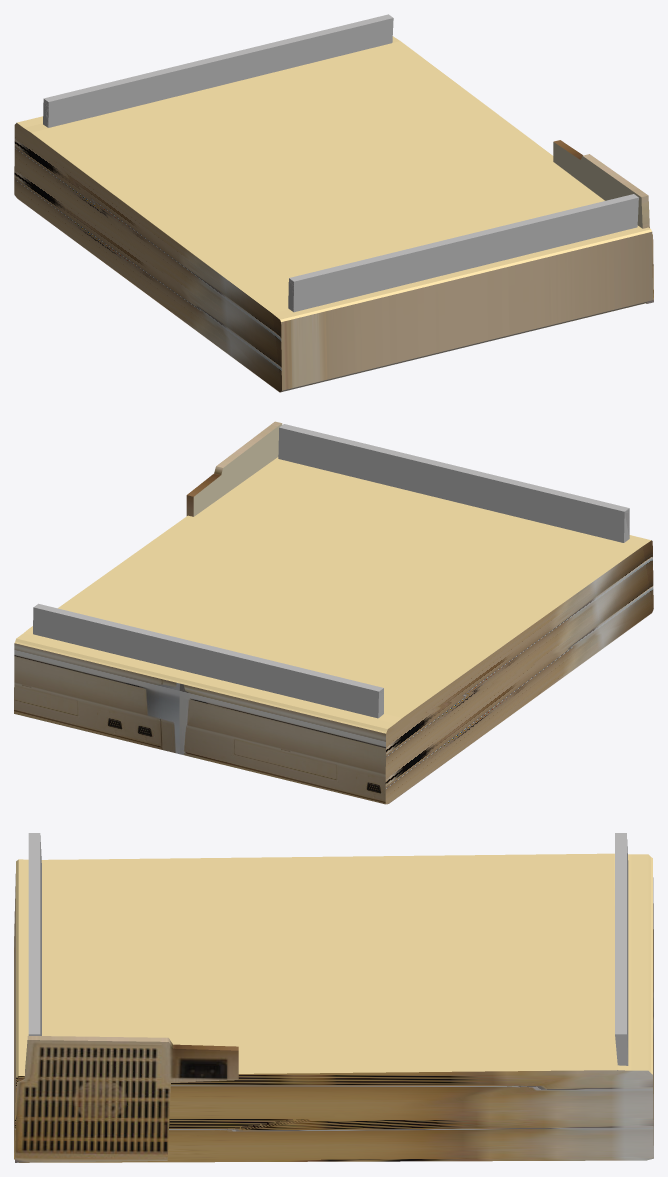
Rendered from amiga1000.fbx.
3 renders of one model, top to bottom at view 1: azimuth 30°, elevation 25°; view 2: azimuth 150°, elevation 25°; view 3: azimuth 270°, elevation 25°, orthographic. The views are drawn at different scales.
Visible parts, largest first — view 1: Cube, Cube.006, Cube.004, Cube.007, Cube.001, Cube.010, Cube.003, Cube.005; view 2: Cube, Cube.009, Cube.004, Cube.007, Cube.001, Cube.010, Cube.003; view 3: Cube, Cube.008, Cube.003, Cube.001, Cube.007, Cube.006.
Part boxes in pixels (x1,y1,x2,y2): Cube: (17, 36, 651, 321); Cube.006: (281, 232, 652, 390); Cube.004: (14, 123, 281, 392); Cube.007: (288, 194, 638, 312); Cube.001: (43, 14, 393, 127); Cube.010: (553, 142, 646, 303); Cube.003: (553, 140, 653, 303); Cube.005: (14, 195, 652, 392); Cube: (14, 457, 650, 733); Cube.009: (14, 643, 385, 804); Cube.004: (385, 540, 653, 804); Cube.007: (278, 424, 629, 542); Cube.001: (33, 603, 383, 718); Cube.010: (193, 423, 282, 516); Cube.003: (186, 421, 281, 516); Cube: (16, 853, 652, 1077); Cube.008: (14, 1070, 653, 1162); Cube.003: (15, 1036, 238, 1162); Cube.001: (615, 833, 628, 1065); Cube.007: (28, 833, 41, 1035); Cube.006: (14, 874, 15, 1152).
Size of the model in its own units: 173 by 45.9 by 215.
